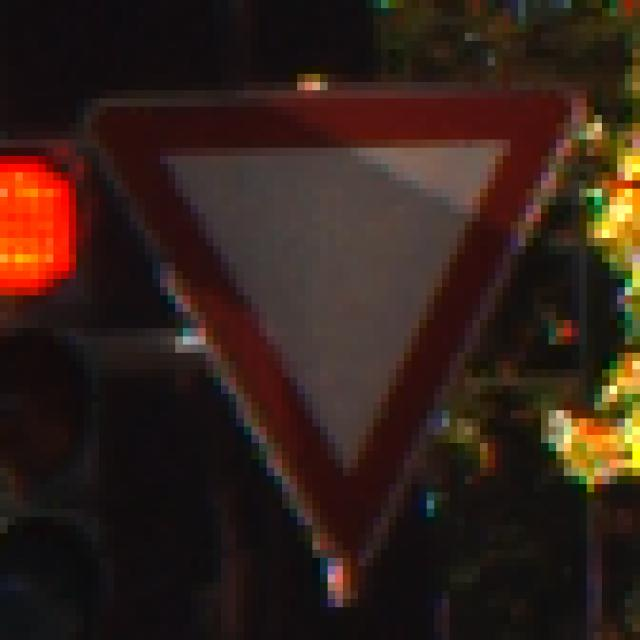Give Way: (54, 59, 580, 584)
